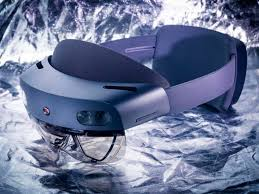hololens: (20, 14, 248, 164)
